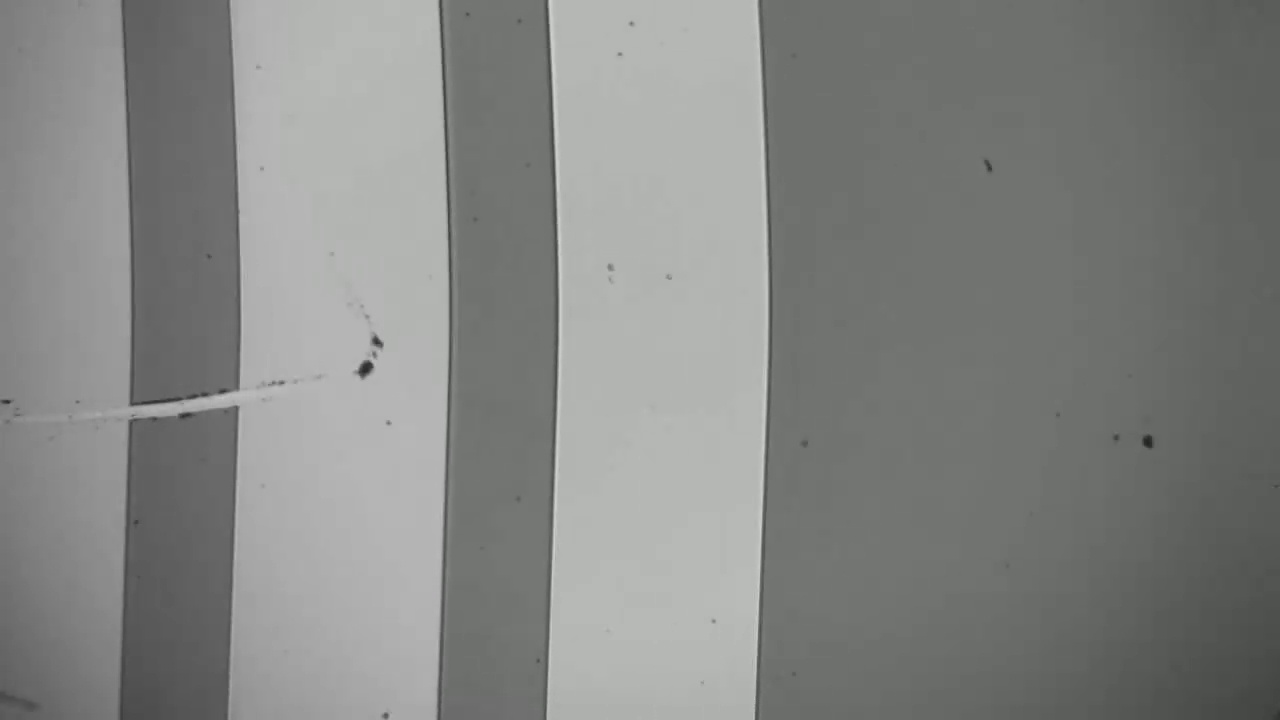Short_circuit: (82, 355, 278, 447)
